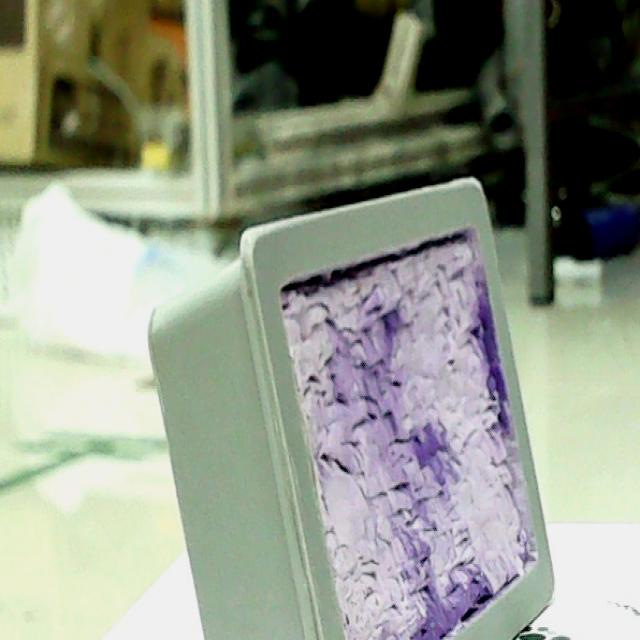block: (153, 178, 553, 640)
